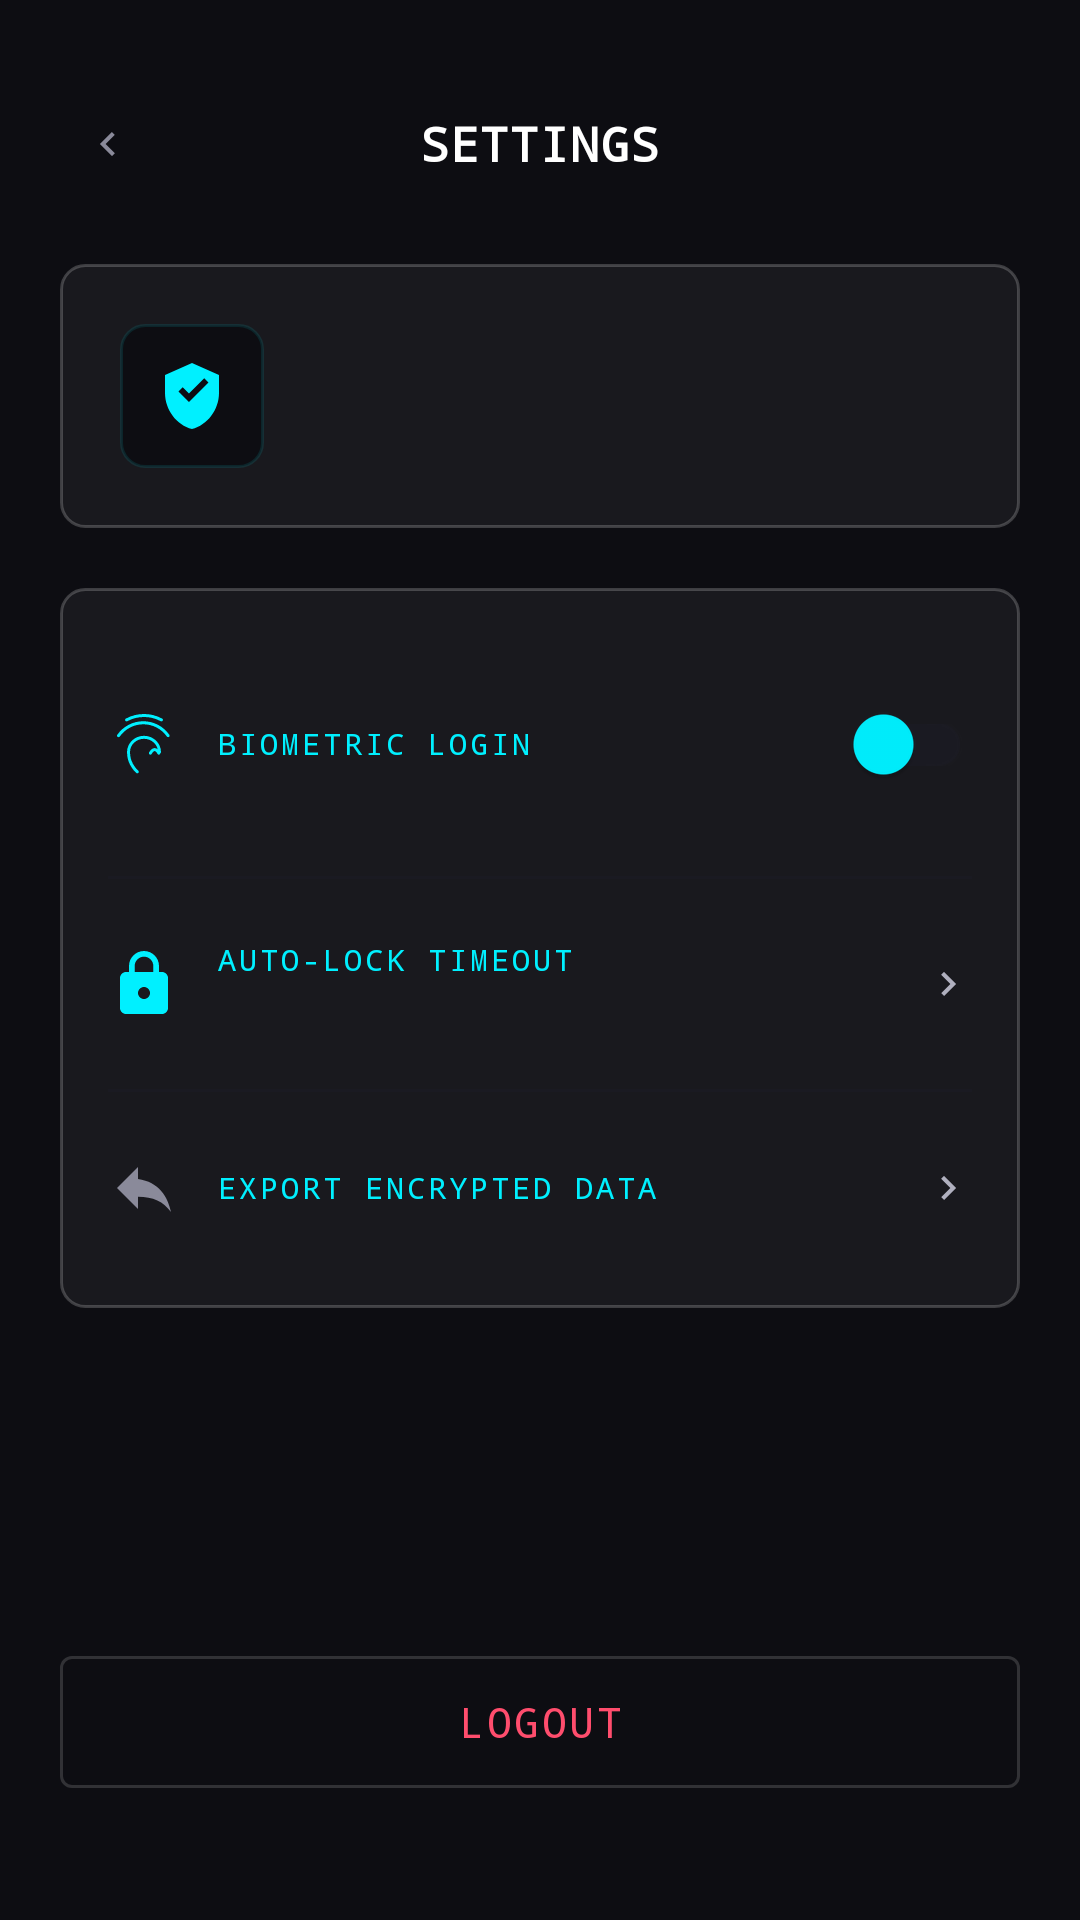

Icon click points for this 1080 x 1920 phone screenshot, format (x=x, y=y):
fingerprint: (x=143, y=744)
shield check: (x=192, y=396)
